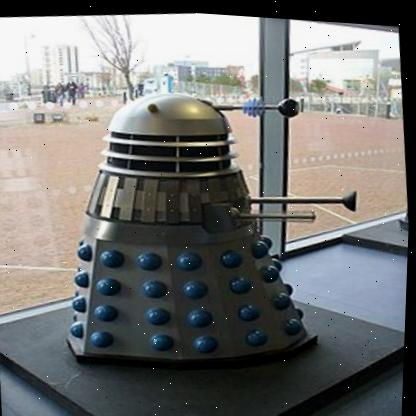dalek: (24, 40, 384, 400)
